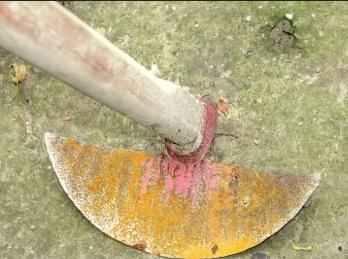HOUE: (0, 1, 331, 259)
